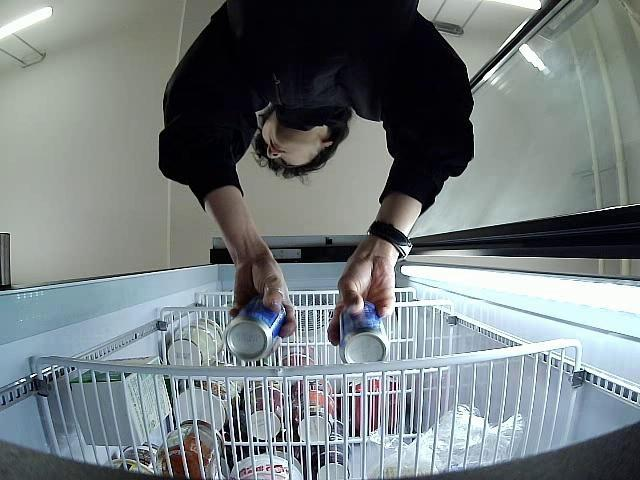15_letsbe: (226, 294, 287, 359), (338, 300, 390, 364)
